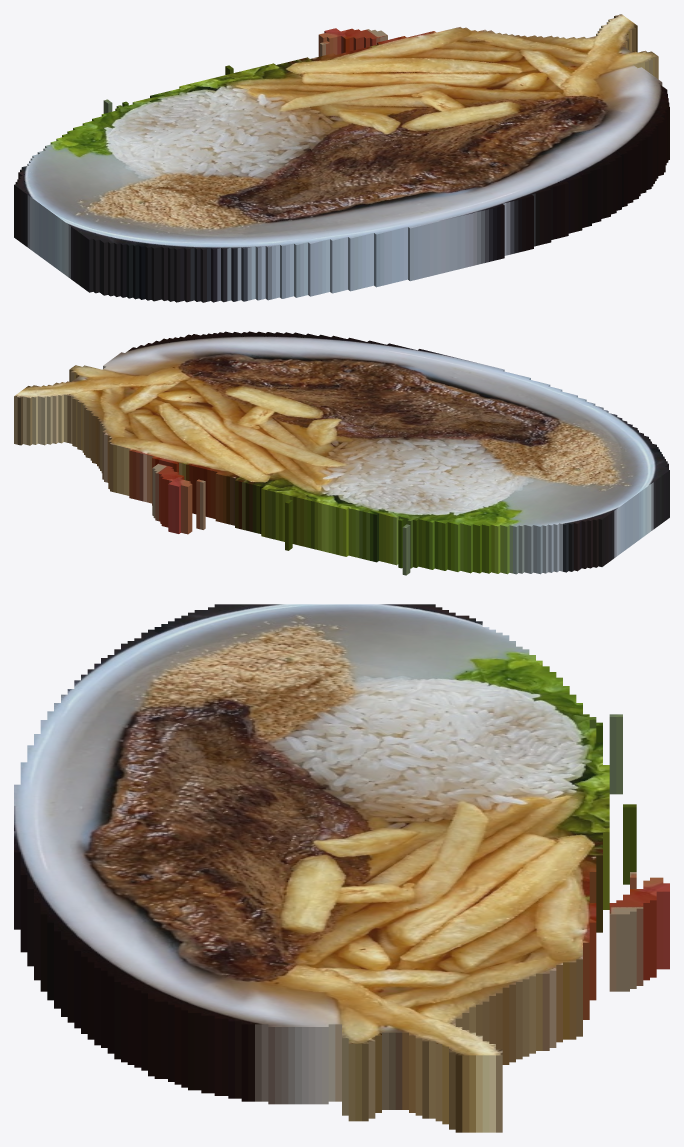
The picture shows the model from 3 angles, top to bottom: view 1: azimuth 30°, elevation 25°; view 2: azimuth 150°, elevation 25°; view 3: azimuth 270°, elevation 25°; orthographic projection. The views are drawn at different scales.
Size of the model in its own units: 0.1 by 0.008 by 0.0615.
Materials: 1 (1 with a texture image).
